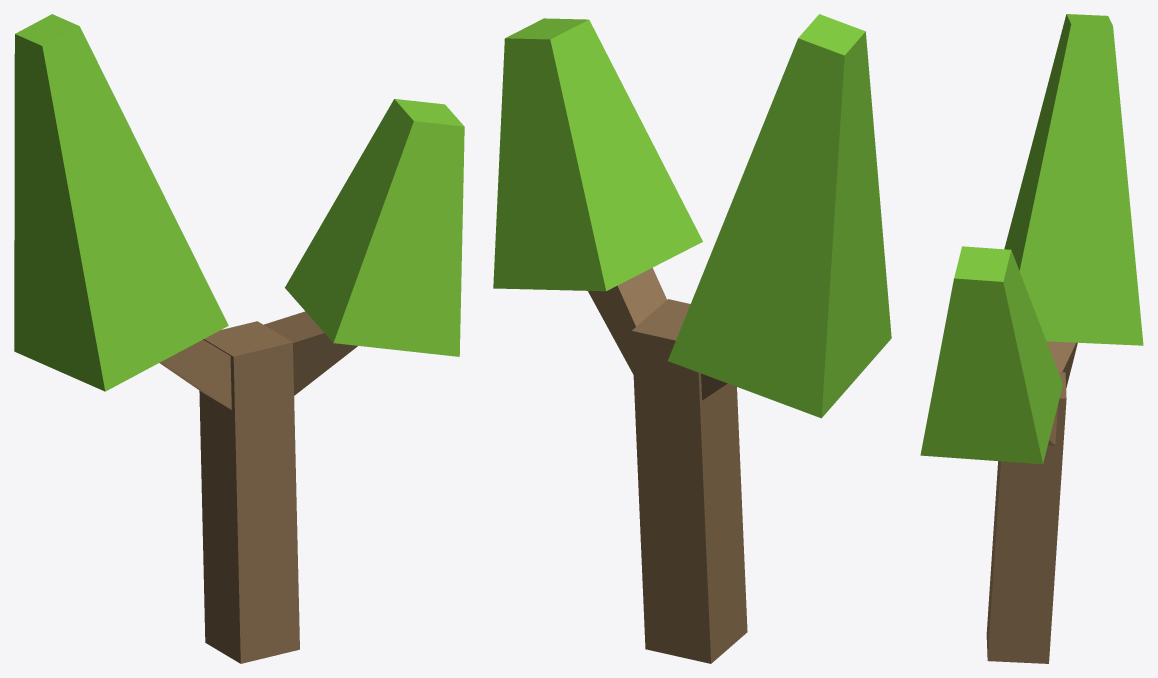
File: tree.fbx
The picture shows the model from 3 angles, left to right: view 1: azimuth 30°, elevation 25°; view 2: azimuth 150°, elevation 25°; view 3: azimuth 270°, elevation 25°; orthographic projection. The views are drawn at different scales.
Parts seen in each view (by area): view 1: Plane; view 2: Plane; view 3: Plane.
Boxes of the visible parts, left/top/right/bottom form: Plane: left=14, top=14, right=464, bottom=663; Plane: left=493, top=14, right=891, bottom=663; Plane: left=920, top=14, right=1143, bottom=663.
Size of the model in its own units: 613 by 1003 by 359.
